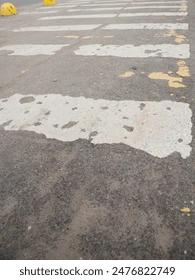faded_road_lines: (0, 90, 195, 163), (0, 3, 191, 22), (0, 42, 194, 60), (0, 26, 192, 31)
